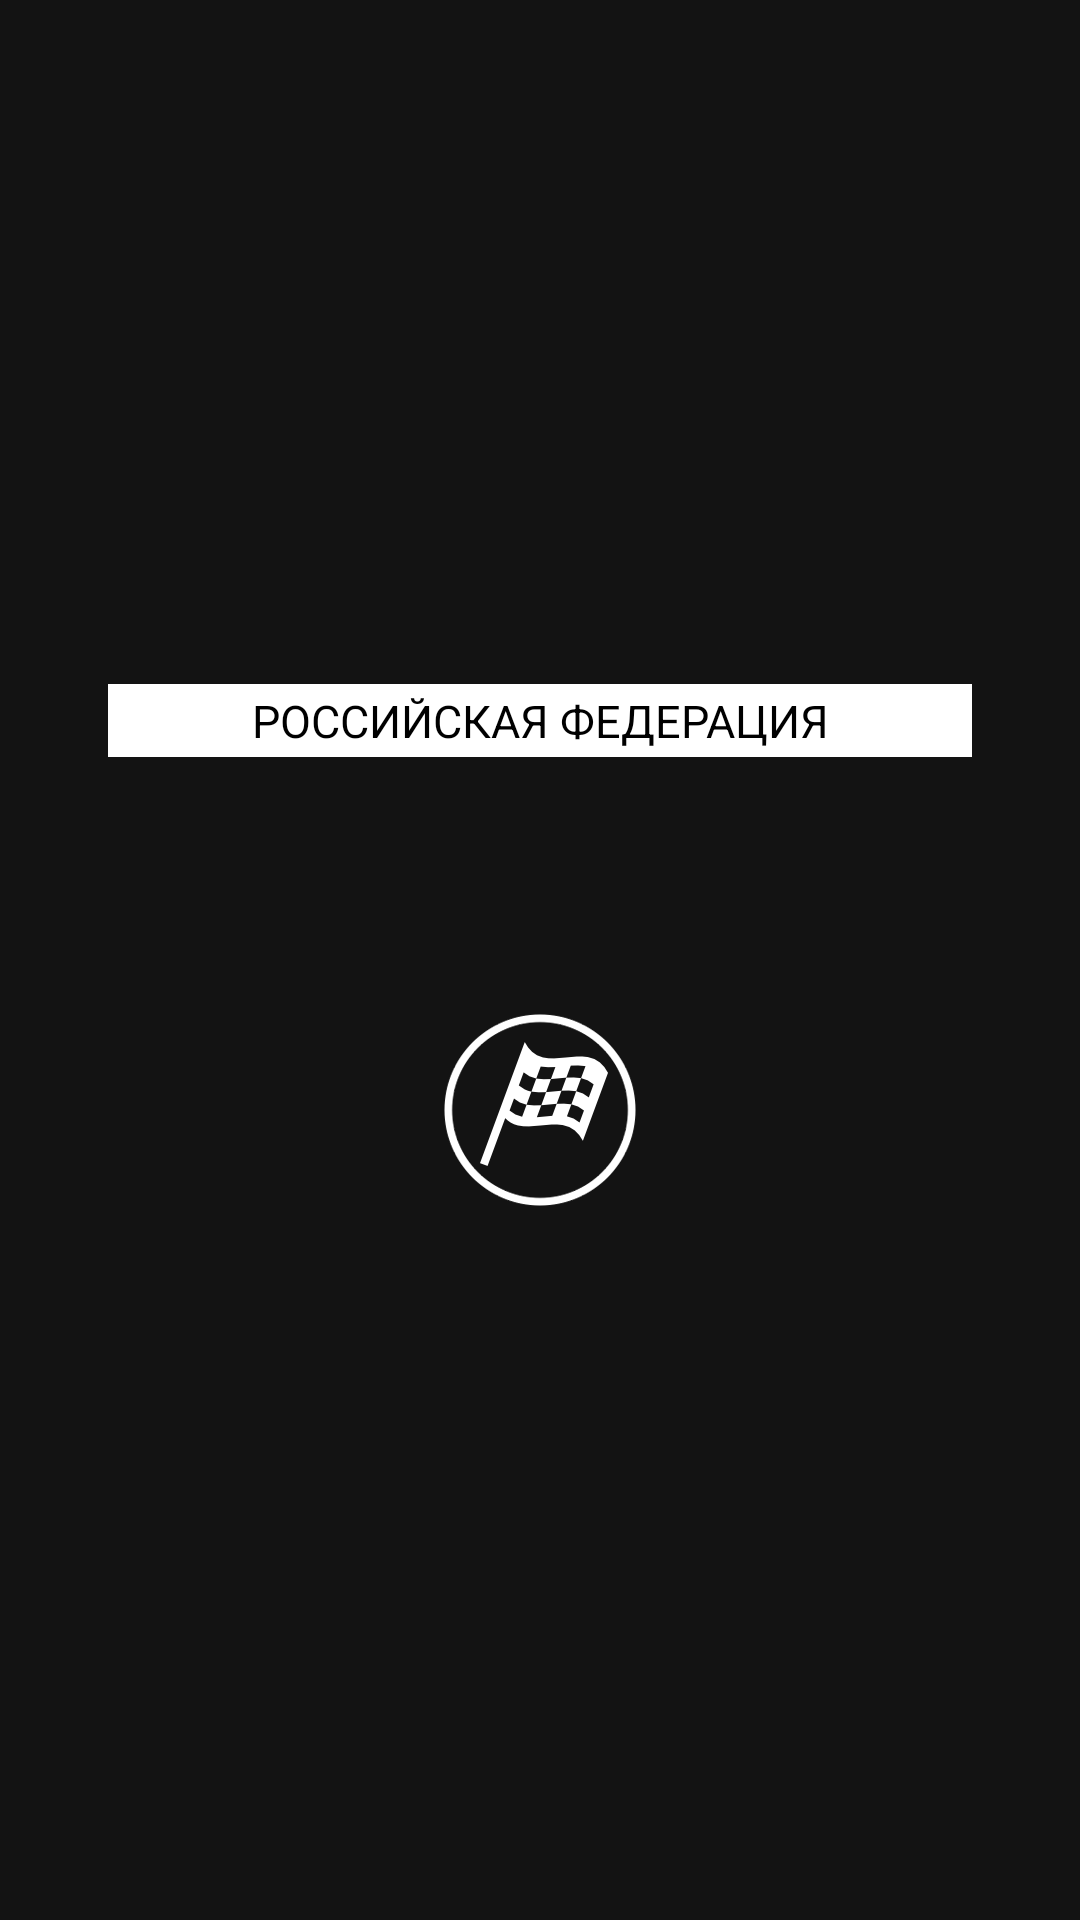

Screen size 1080w x 1920h. Icon name, then its box in pixels as (x1, y1, x2, y2):
finish flag: (444, 1014, 636, 1206)
